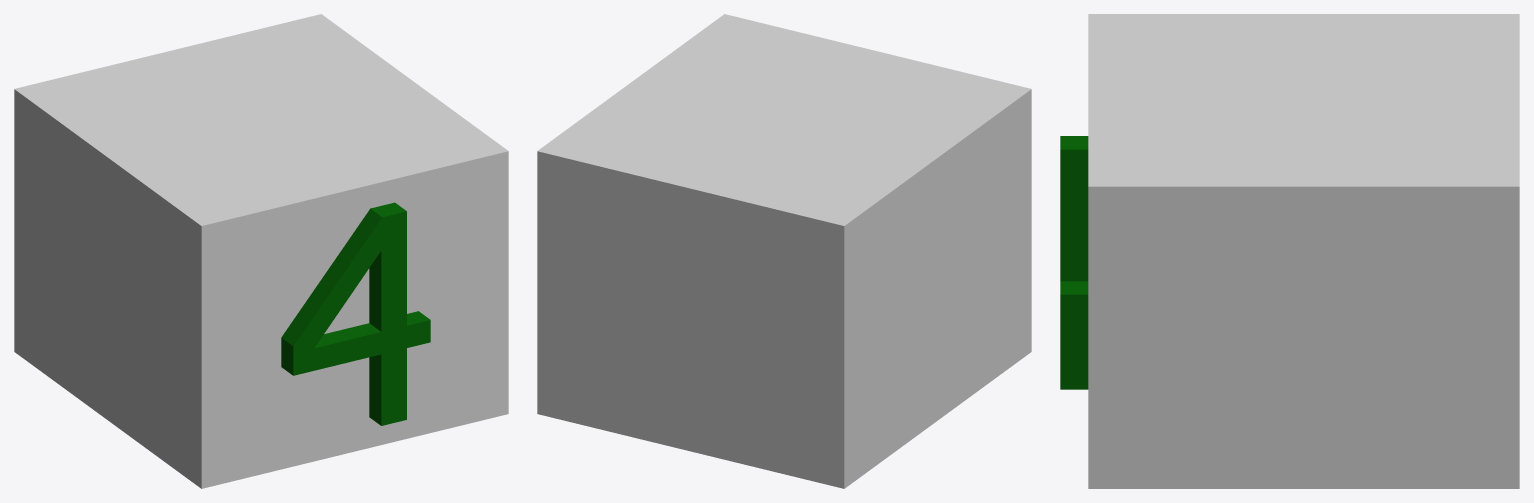
File: SurveyAnswerCube4.fbx
The picture shows the model from 3 angles, left to right: view 1: azimuth 30°, elevation 25°; view 2: azimuth 150°, elevation 25°; view 3: azimuth 270°, elevation 25°; orthographic projection. The views are drawn at different scales.
Visible parts, largest first — view 1: Model, G_4_1; view 2: Model; view 3: Model, G_4_1.
Part boxes in pixels (<box>): Model: <box>14,14,508,488</box>; G_4_1: <box>281,202,430,425</box>; Model: <box>537,14,1031,488</box>; Model: <box>1088,14,1519,488</box>; G_4_1: <box>1060,136,1088,389</box>.
Bounding box in the file's own units: 1.72 × 1.41 × 1.94.
